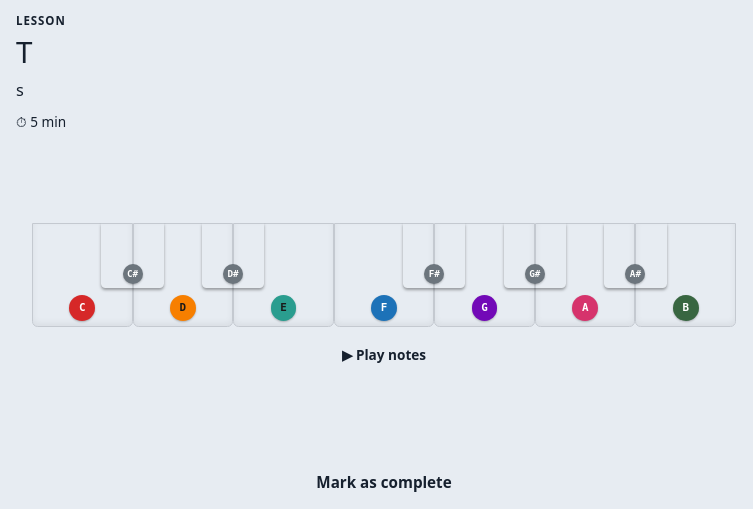
Test: LessonView — standalone piano Play button › toggles to Stop and back
The width and height of the screenshot is (753, 509).
Click the button "▶ Play notes".
click(384, 355)  # box [324,338,444,372]
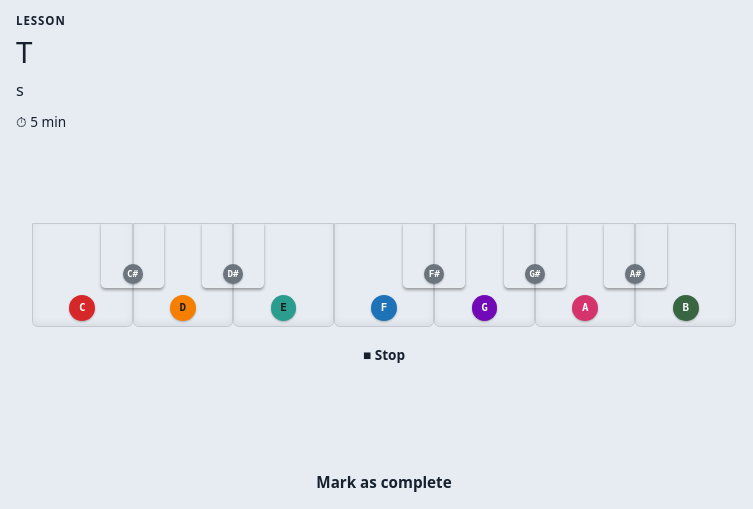
Expected: the button "■ Stop" is shown
Click the button "■ Stop".
click(384, 355)  # box [345,338,423,372]
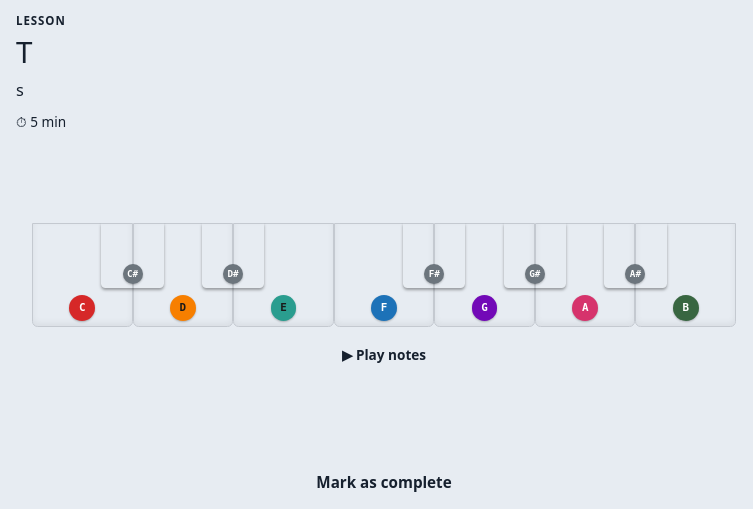
Expected: the button "▶ Play notes" is shown, [324,338,444,372]
